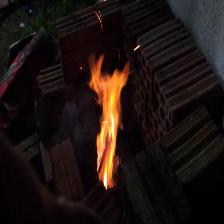fire: (76, 49, 140, 192)
